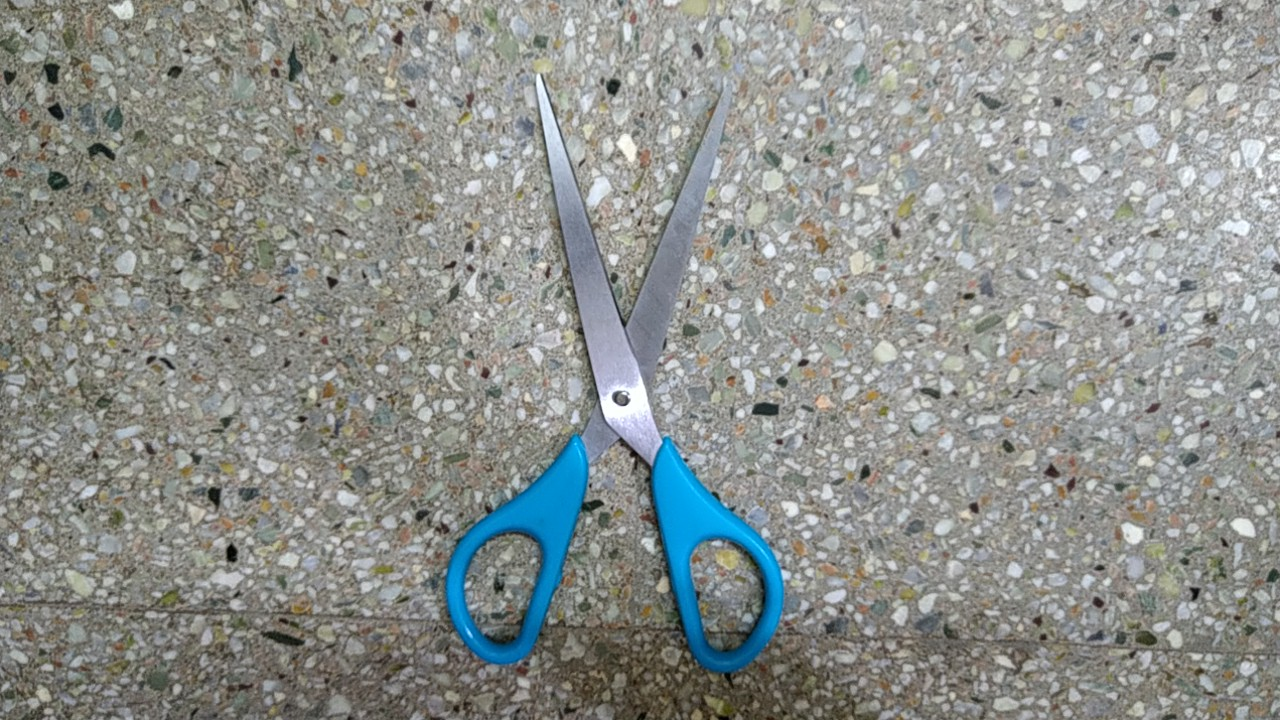scissor: (426, 65, 796, 690)
